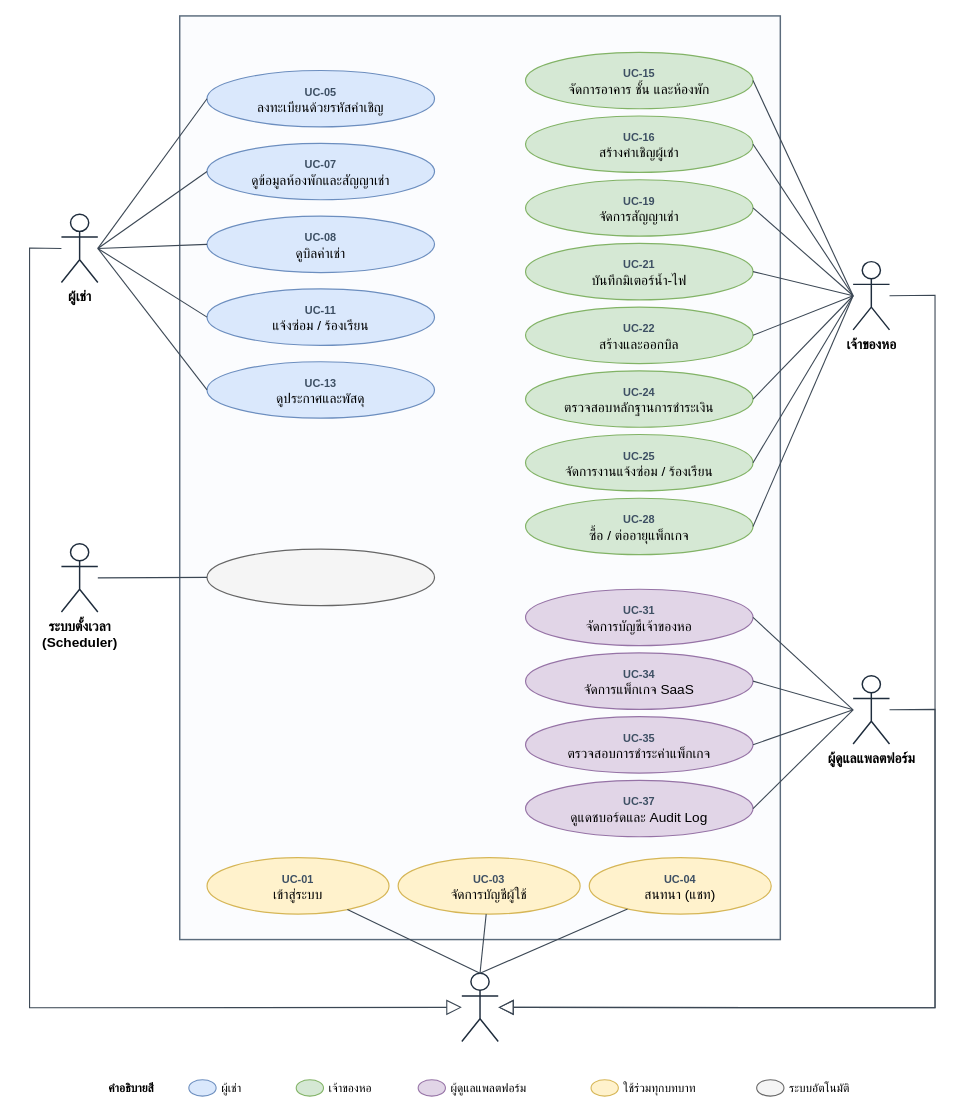
Some shapes in this 966 by 1116 pixel diagram are drawn without their labels. The shapes that lost their labels are listed below. From the top down, each one's box as (x1, y1, x2, y2) in pixels, then its label:
(179, 15, 781, 940): ระบบบริหารจัดการหอพัก Nestly
(206, 548, 435, 606): UC-38 ประมวลผลงานตามรอบเวลา
(461, 972, 498, 1042): ผู้ใช้งาน
